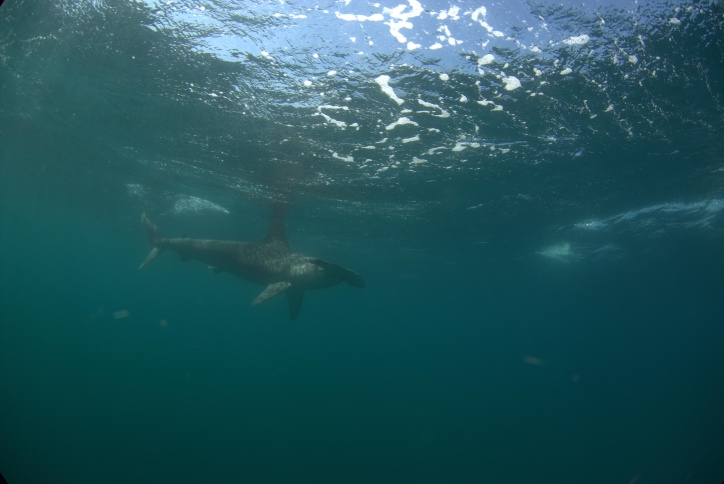Hammer: (113, 195, 376, 342)
